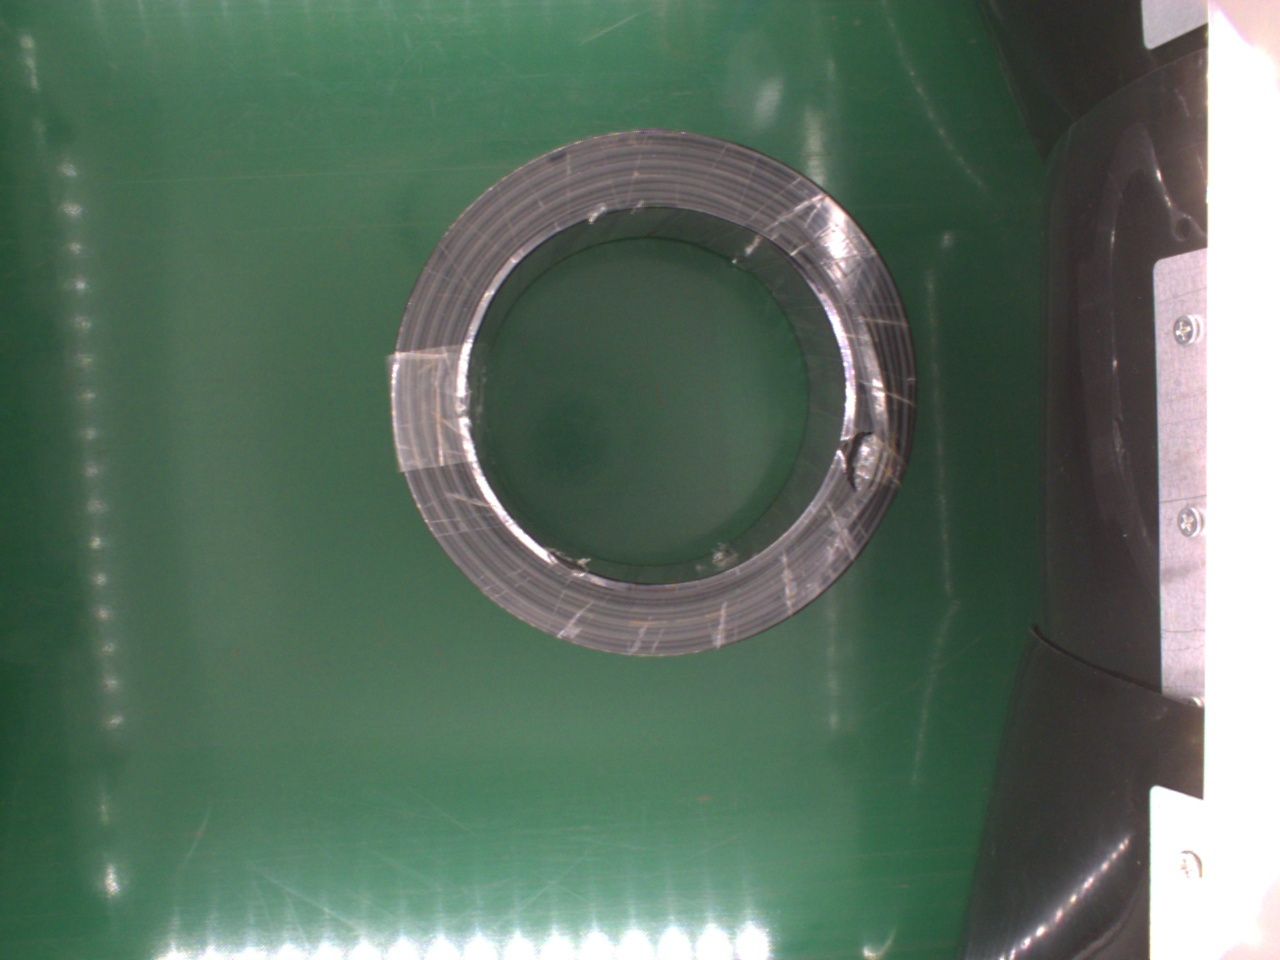black: (389, 125, 915, 658)
